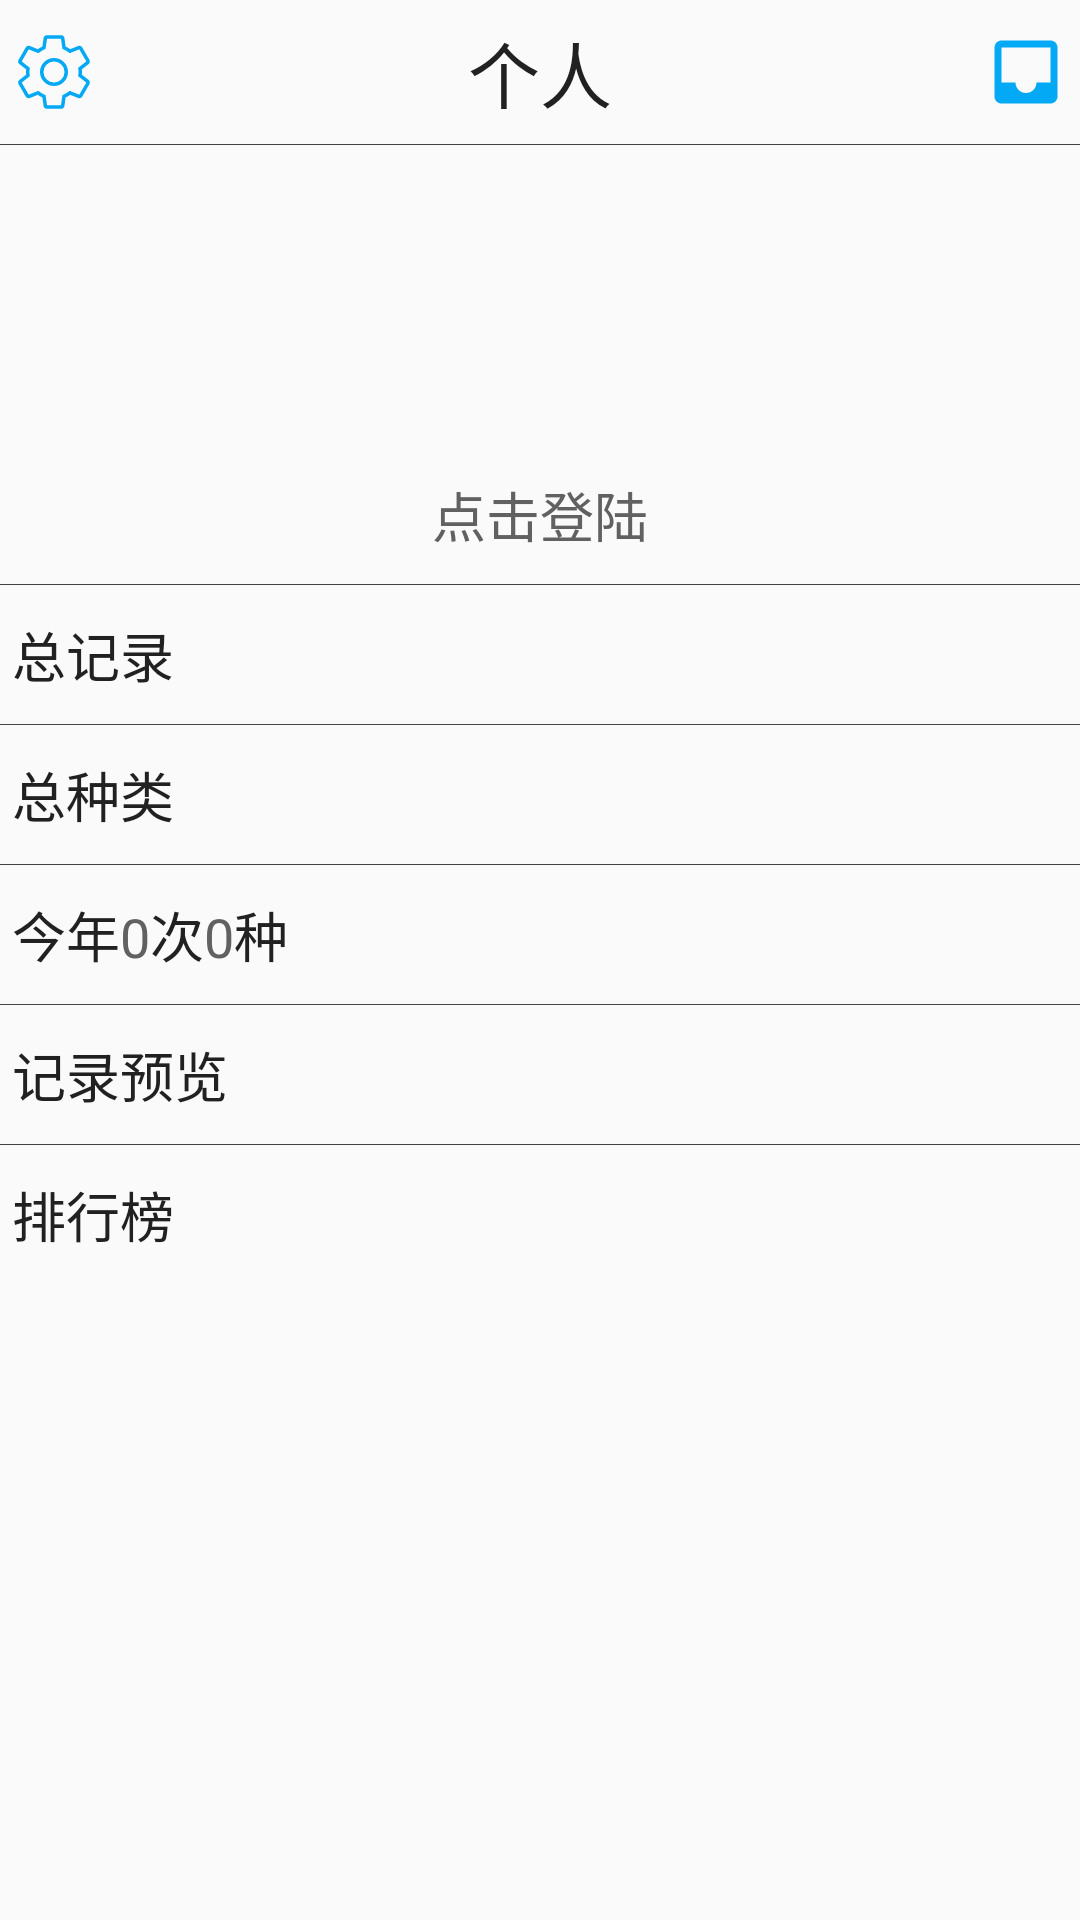

Icon bounding boxes for this 1080×1920 phone screenshot, format (x1, y1, x2, y2):
draftbox: (994, 40, 1058, 104)
settings: (18, 35, 90, 109)
